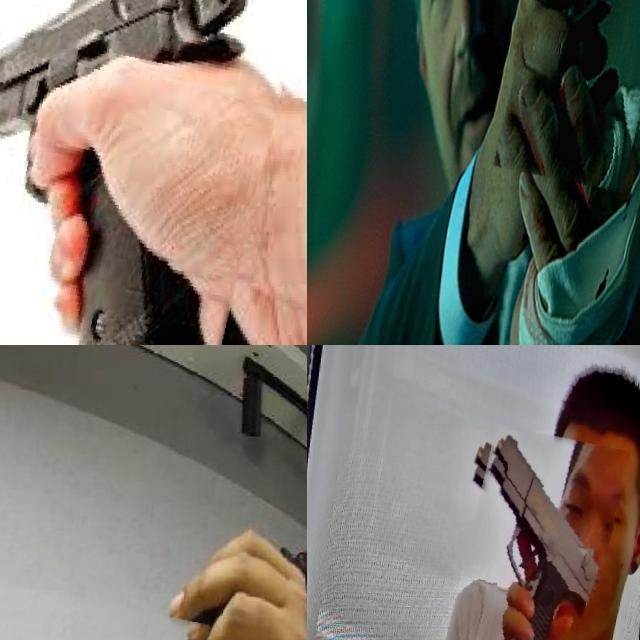gun-knife-thesis - v11 Yolov5 augmented: (0, 0, 301, 345), (452, 425, 624, 640), (514, 0, 640, 209)
